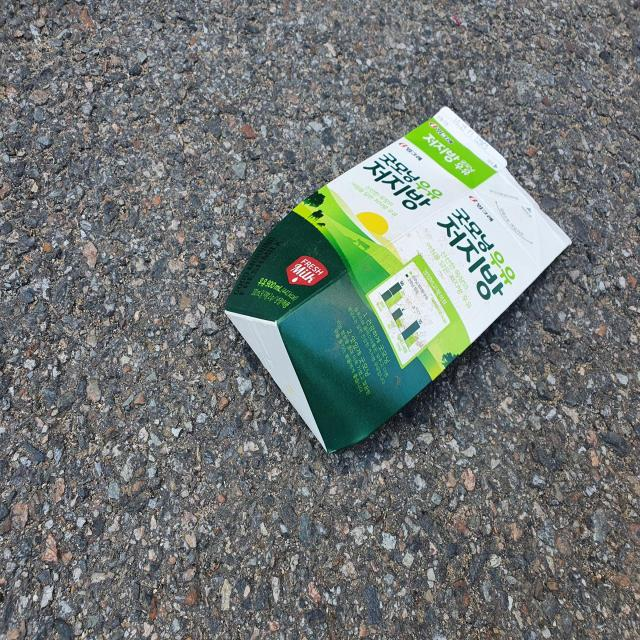paperpack: (225, 106, 572, 452)
